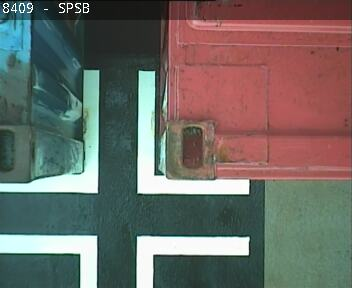groundmarker_1: (4, 71, 249, 194), (1, 235, 249, 287)
